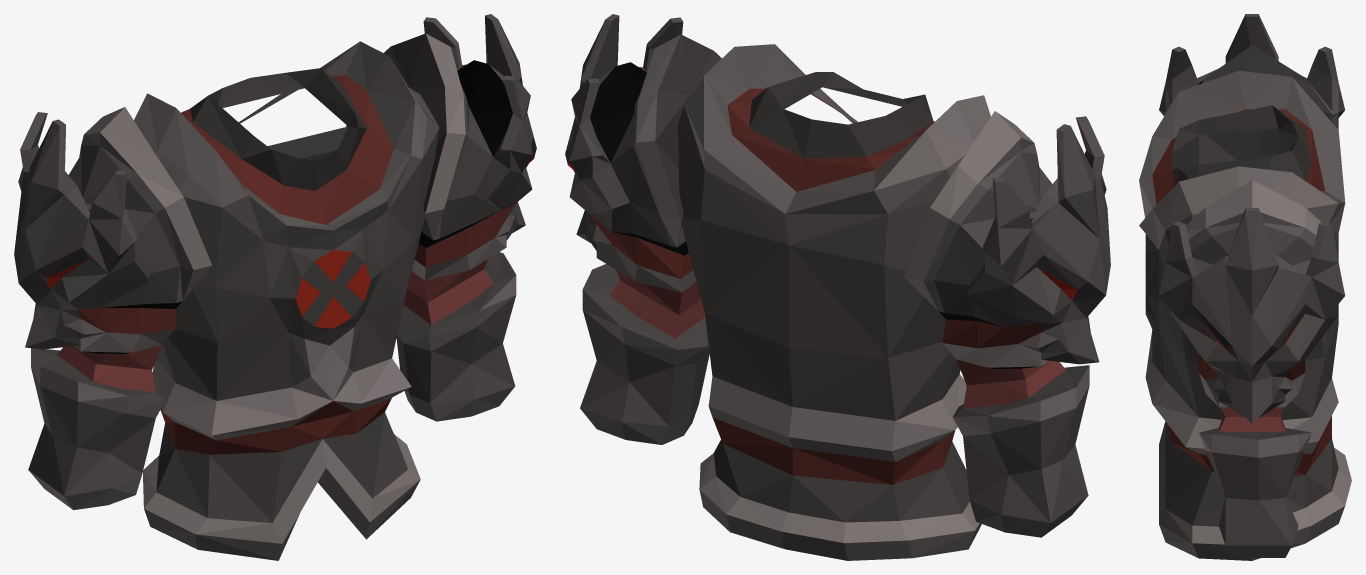
File: player_sanguine_torva_platebody.glb
3 views of the same model, side by side, from view 1: azimuth 30°, elevation 25°; view 2: azimuth 150°, elevation 25°; view 3: azimuth 270°, elevation 25° (orthographic). The views are drawn at different scales.
Bounding box in the file's own units: 82 × 68.01 × 31.99.
Materials: 1 (1 with a texture image).
